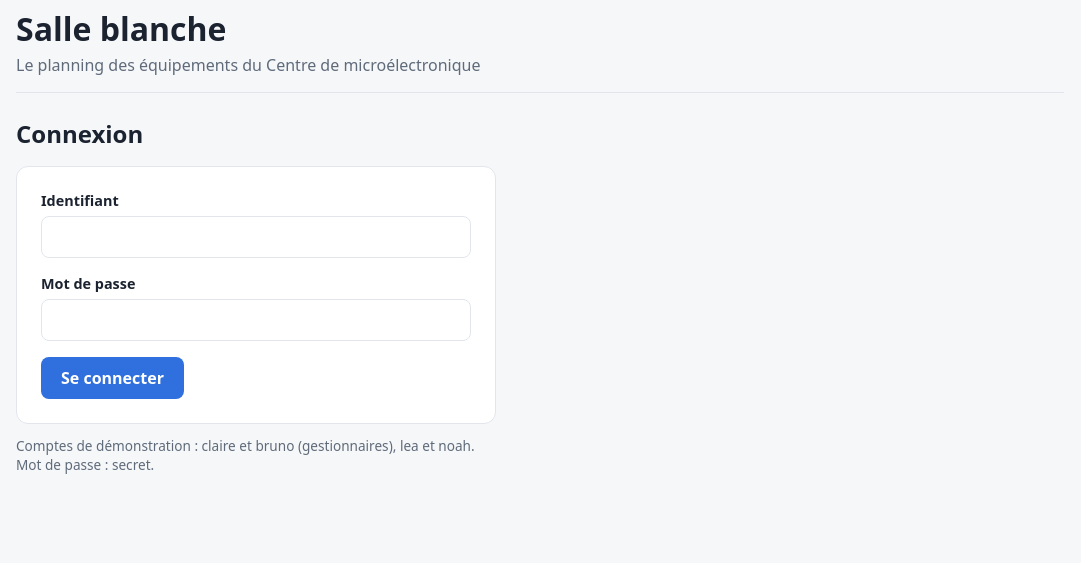
Test: Les pages protégées › affichent « Identifiant ou mot de passe incorrect. » sur un 401
Type "lea" into the field labelled "Identifiant" at (256, 237), box [41,216,471,258]
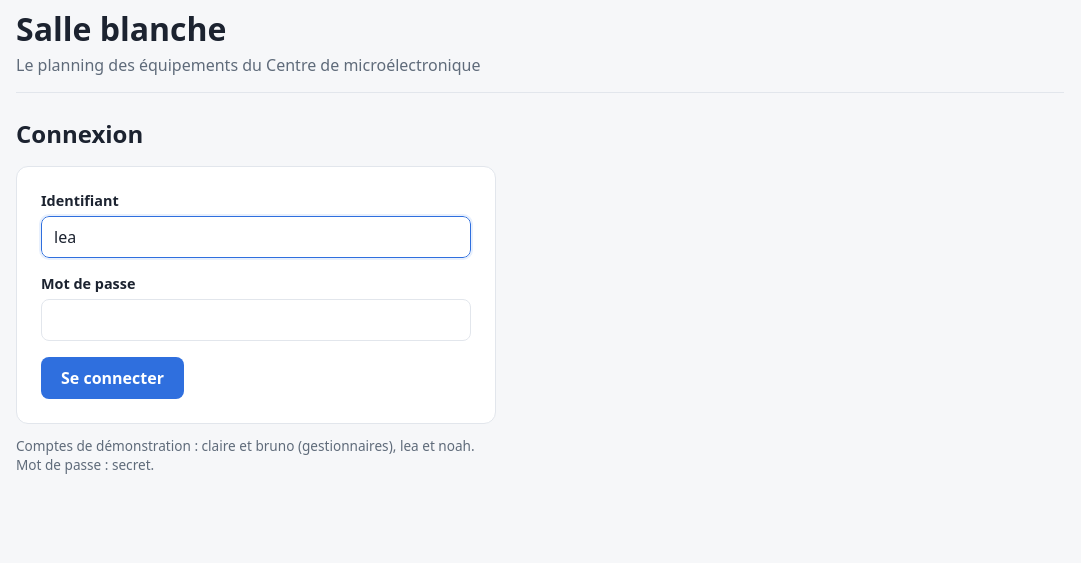
Type "faux" into the password field labelled "Mot de passe" at (256, 320), box [41,299,471,341]
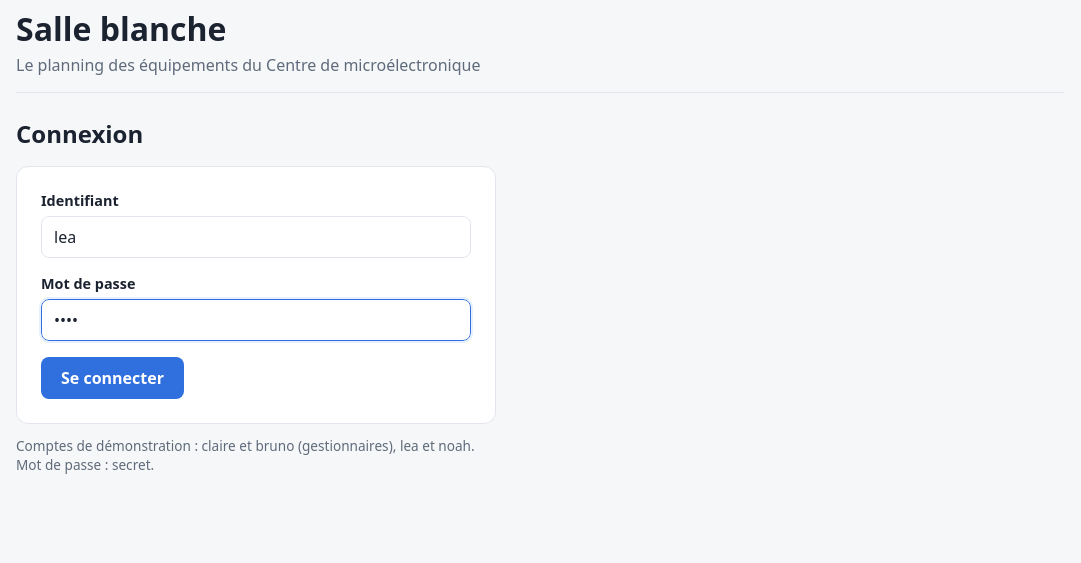
Click the button "Se connecter" at (112, 378), box [41,357,184,399]
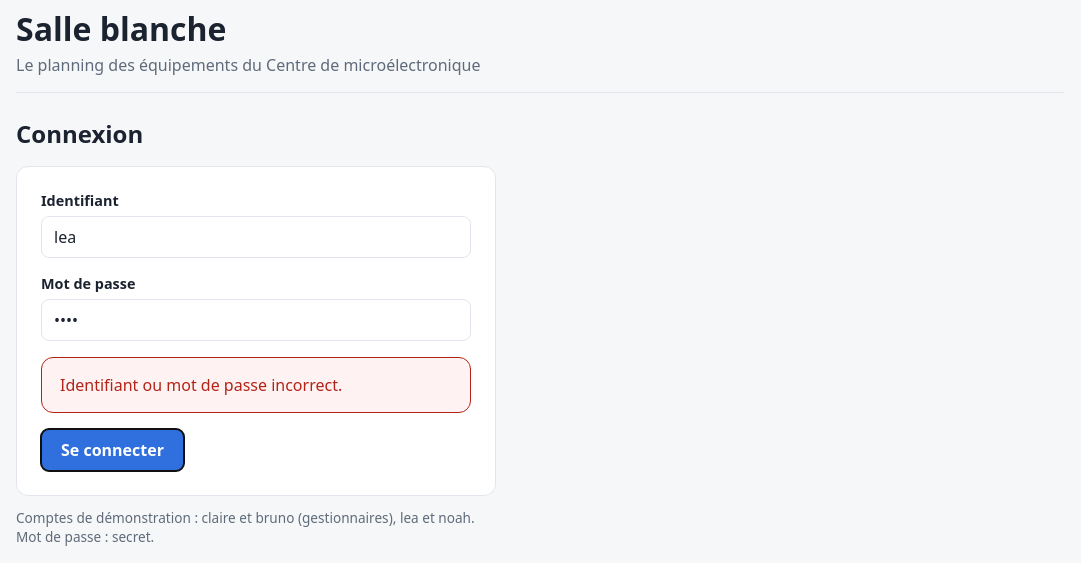
Check: the message reads "Identifiant ou mot de passe incorrect.", box [60,374,342,396]
